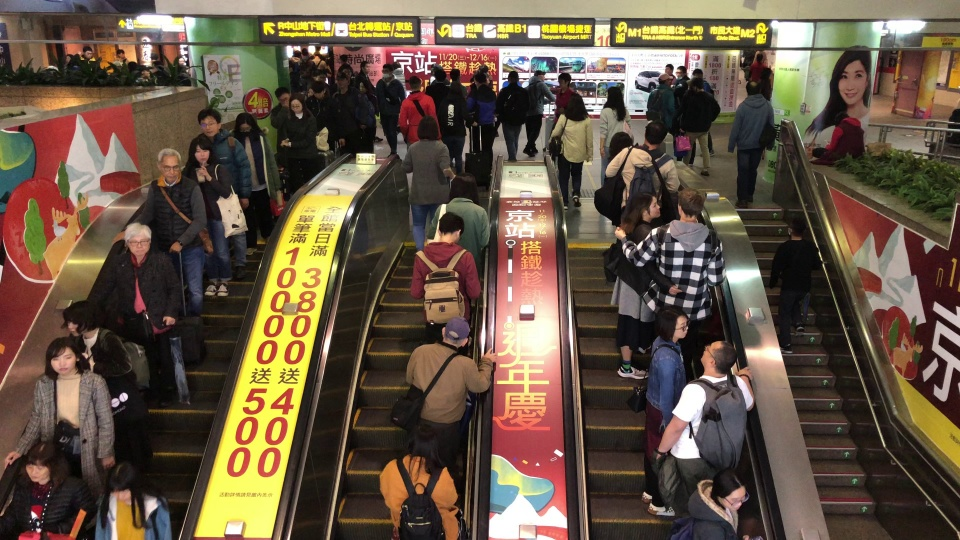person_head: (97, 421, 165, 527), (18, 434, 69, 526), (405, 417, 443, 482), (697, 335, 740, 381), (710, 466, 749, 512), (621, 192, 659, 238), (44, 334, 82, 377), (60, 301, 100, 338), (121, 220, 152, 263), (657, 304, 689, 341), (442, 315, 470, 354), (448, 172, 478, 206), (157, 148, 182, 184), (436, 210, 464, 242), (676, 190, 704, 219), (195, 104, 221, 135), (602, 88, 627, 120), (564, 90, 589, 120), (609, 131, 633, 161), (644, 120, 666, 151), (417, 115, 439, 143), (191, 134, 212, 163), (235, 112, 254, 138), (787, 215, 804, 236), (834, 108, 850, 129), (334, 70, 350, 90), (289, 93, 304, 114), (689, 77, 704, 97), (745, 79, 760, 99), (407, 74, 422, 93), (275, 87, 289, 107), (556, 72, 573, 88), (507, 69, 520, 88), (82, 45, 95, 61), (658, 71, 670, 88), (434, 66, 446, 81), (675, 64, 687, 79), (450, 67, 461, 83), (692, 68, 703, 84), (476, 72, 486, 89), (757, 65, 766, 83), (314, 85, 325, 99), (532, 68, 544, 80), (394, 62, 403, 77), (342, 65, 352, 78), (360, 61, 370, 73), (172, 56, 185, 65), (755, 52, 764, 64), (318, 67, 325, 82), (359, 80, 367, 93), (665, 62, 673, 74), (115, 49, 125, 58), (149, 52, 158, 62), (340, 54, 348, 65), (299, 46, 307, 56), (430, 63, 436, 76), (314, 43, 321, 53), (307, 86, 313, 97), (66, 52, 71, 62), (292, 50, 300, 56)
person_vbox: (69, 213, 177, 420), (2, 329, 113, 527), (615, 192, 728, 383), (652, 335, 754, 518), (406, 315, 495, 505), (57, 293, 135, 476), (147, 145, 213, 346), (611, 191, 675, 379), (377, 417, 469, 540), (191, 101, 252, 285), (88, 415, 177, 540), (641, 304, 691, 522), (410, 210, 482, 357), (4, 420, 89, 540), (180, 126, 232, 302), (232, 109, 288, 256), (604, 120, 681, 225), (401, 114, 457, 257), (768, 213, 823, 355), (727, 77, 777, 208), (687, 463, 770, 540), (427, 169, 490, 269), (549, 92, 593, 210), (280, 92, 320, 193), (595, 88, 634, 190), (682, 78, 721, 178), (463, 71, 496, 189), (444, 66, 478, 176), (398, 72, 442, 154), (521, 66, 555, 165), (646, 70, 682, 161), (497, 68, 529, 164), (378, 62, 407, 161), (328, 69, 360, 151), (826, 106, 864, 163), (425, 66, 450, 147), (313, 85, 336, 168), (350, 76, 376, 148), (269, 85, 289, 169), (553, 70, 577, 118), (356, 61, 377, 115), (745, 65, 774, 101), (942, 96, 960, 145), (358, 79, 379, 118), (77, 46, 98, 83), (691, 68, 716, 97), (313, 64, 332, 99), (391, 60, 407, 99), (675, 64, 688, 112), (750, 52, 770, 82), (299, 49, 314, 85), (305, 85, 320, 119), (313, 49, 332, 75), (290, 48, 301, 91), (741, 46, 754, 81), (112, 48, 129, 68), (63, 52, 74, 82), (662, 63, 675, 88), (467, 70, 478, 98), (754, 47, 768, 66), (337, 53, 352, 70), (428, 62, 437, 88), (381, 62, 393, 81), (480, 63, 490, 83), (313, 45, 324, 58), (327, 48, 334, 68)
